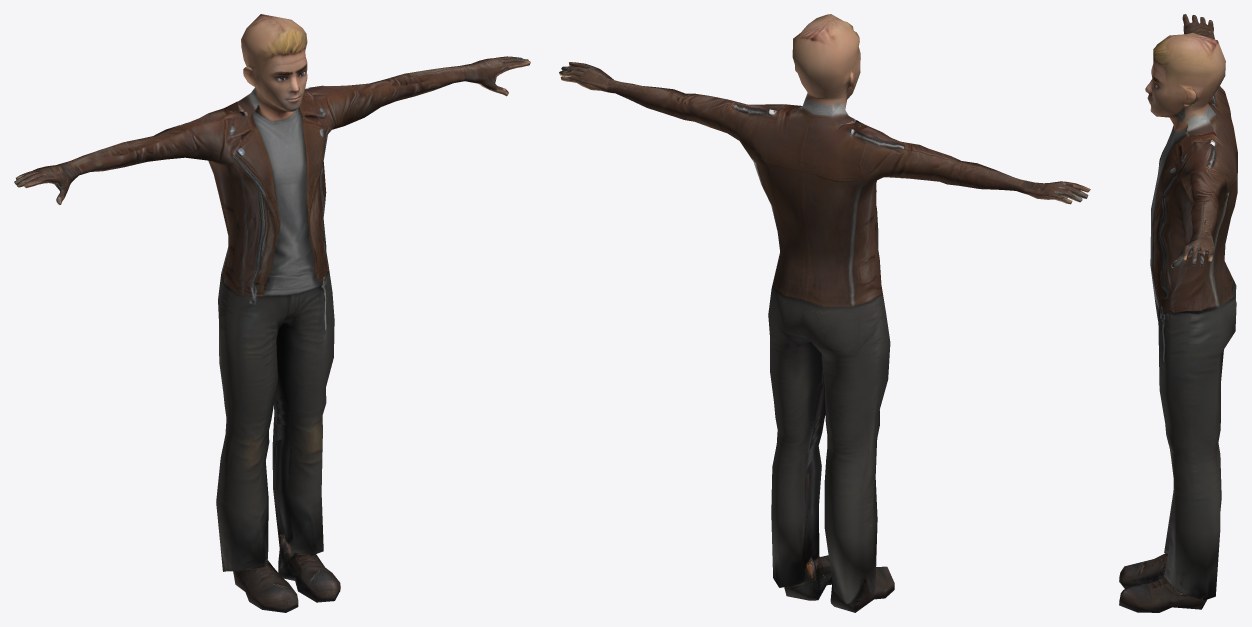
The model's file is _0803035512_texture.fbx.
3 views of the same model, side by side, from view 1: azimuth 30°, elevation 25°; view 2: azimuth 150°, elevation 25°; view 3: azimuth 270°, elevation 25° (orthographic). The views are drawn at different scales.
Parts seen in each view (by area): view 1: input; view 2: input; view 3: input.
Boxes of the visible parts, x1=… form: input: x1=14, y1=14, x2=530, y2=612; input: x1=559, y1=14, x2=1090, y2=612; input: x1=1119, y1=14, x2=1237, y2=612.
Size of the model in its own units: 190 by 200 by 38.53.
1 material, 1 textured.
